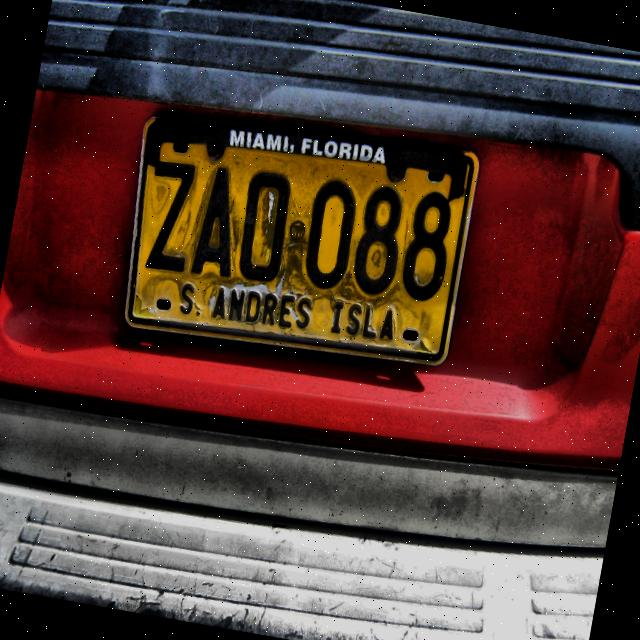plate: (124, 116, 479, 368)
